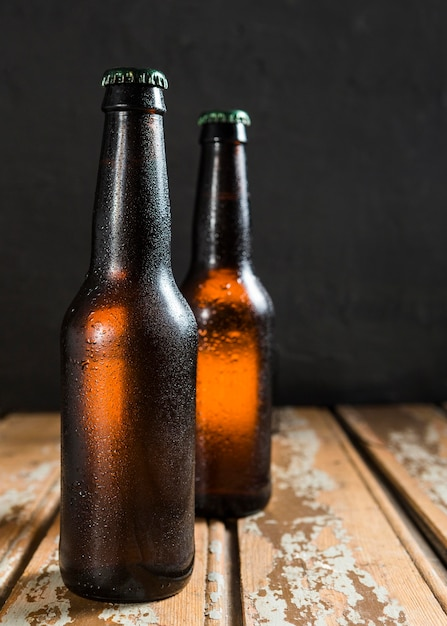alcohol: (59, 67, 196, 607), (178, 107, 276, 522)
